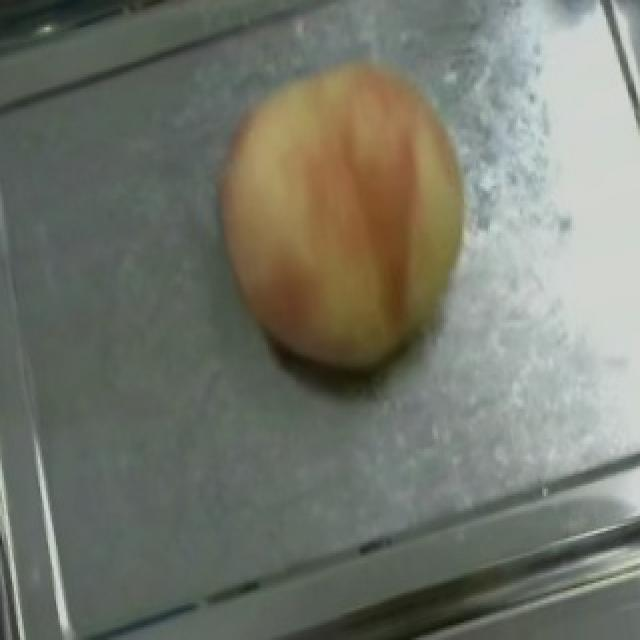Fruit: (174, 22, 514, 422)
